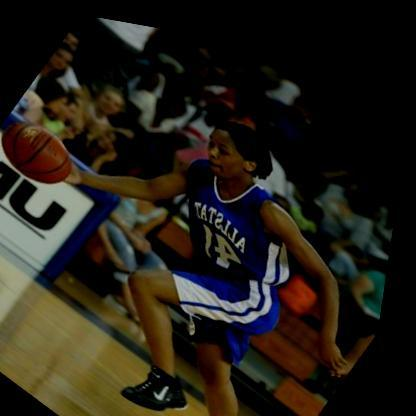basketball: (0, 103, 90, 199)
